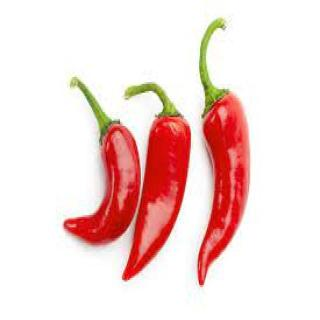Cabai Merah: (127, 108, 195, 287), (197, 95, 253, 291), (62, 126, 141, 249)
